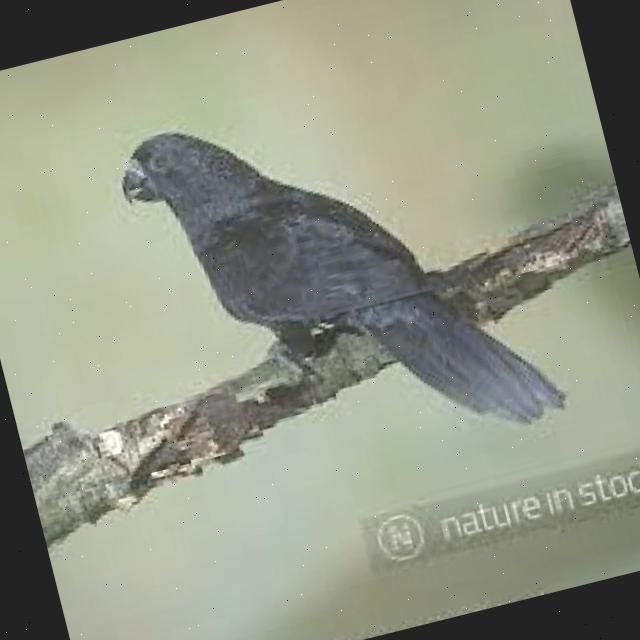Nuri Hitam: (88, 18, 592, 530)
